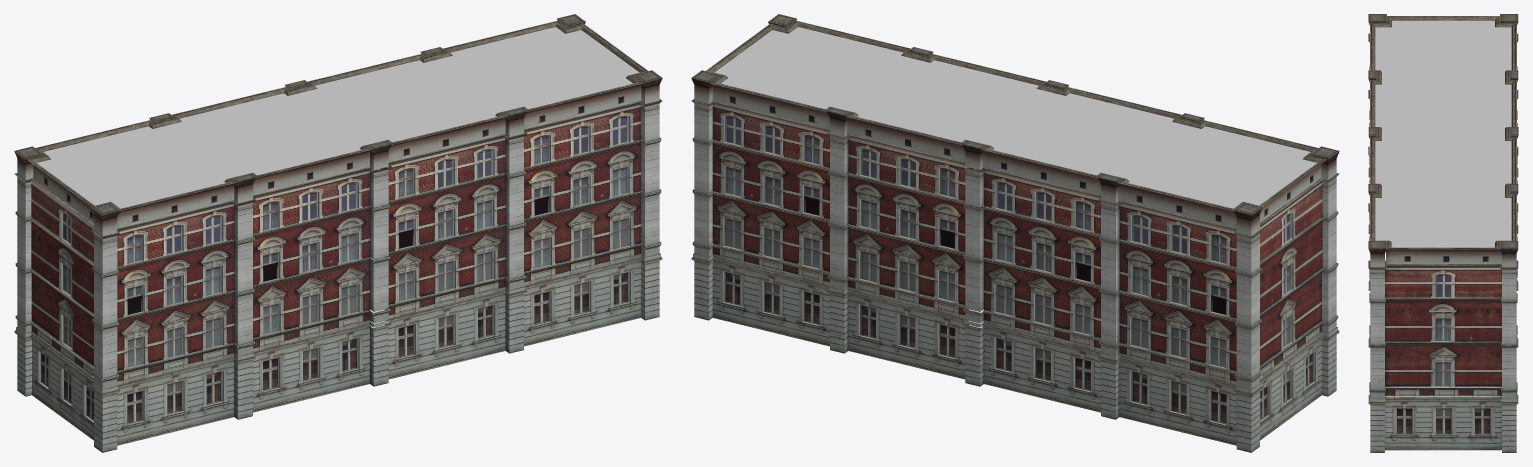
File: Euro_v7_3.FBX
3 renders of one model, left to right at view 1: azimuth 30°, elevation 25°; view 2: azimuth 150°, elevation 25°; view 3: azimuth 270°, elevation 25°, orthographic. The views are drawn at different scales.
Parts seen in each view (by area): view 1: Euro_v7_3, Euro_v7_3_Roof_floor; view 2: Euro_v7_3, Euro_v7_3_Roof_floor; view 3: Euro_v7_3, Euro_v7_3_Roof_floor.
Boxes of the visible parts, bbox=[...] form: Euro_v7_3: bbox=[14, 14, 662, 452]; Euro_v7_3_Roof_floor: bbox=[37, 27, 639, 208]; Euro_v7_3: bbox=[691, 14, 1339, 452]; Euro_v7_3_Roof_floor: bbox=[714, 27, 1316, 208]; Euro_v7_3: bbox=[1368, 14, 1518, 452]; Euro_v7_3_Roof_floor: bbox=[1375, 20, 1511, 247].
Size of the model in its own units: 46.62 by 19 by 12.6.
